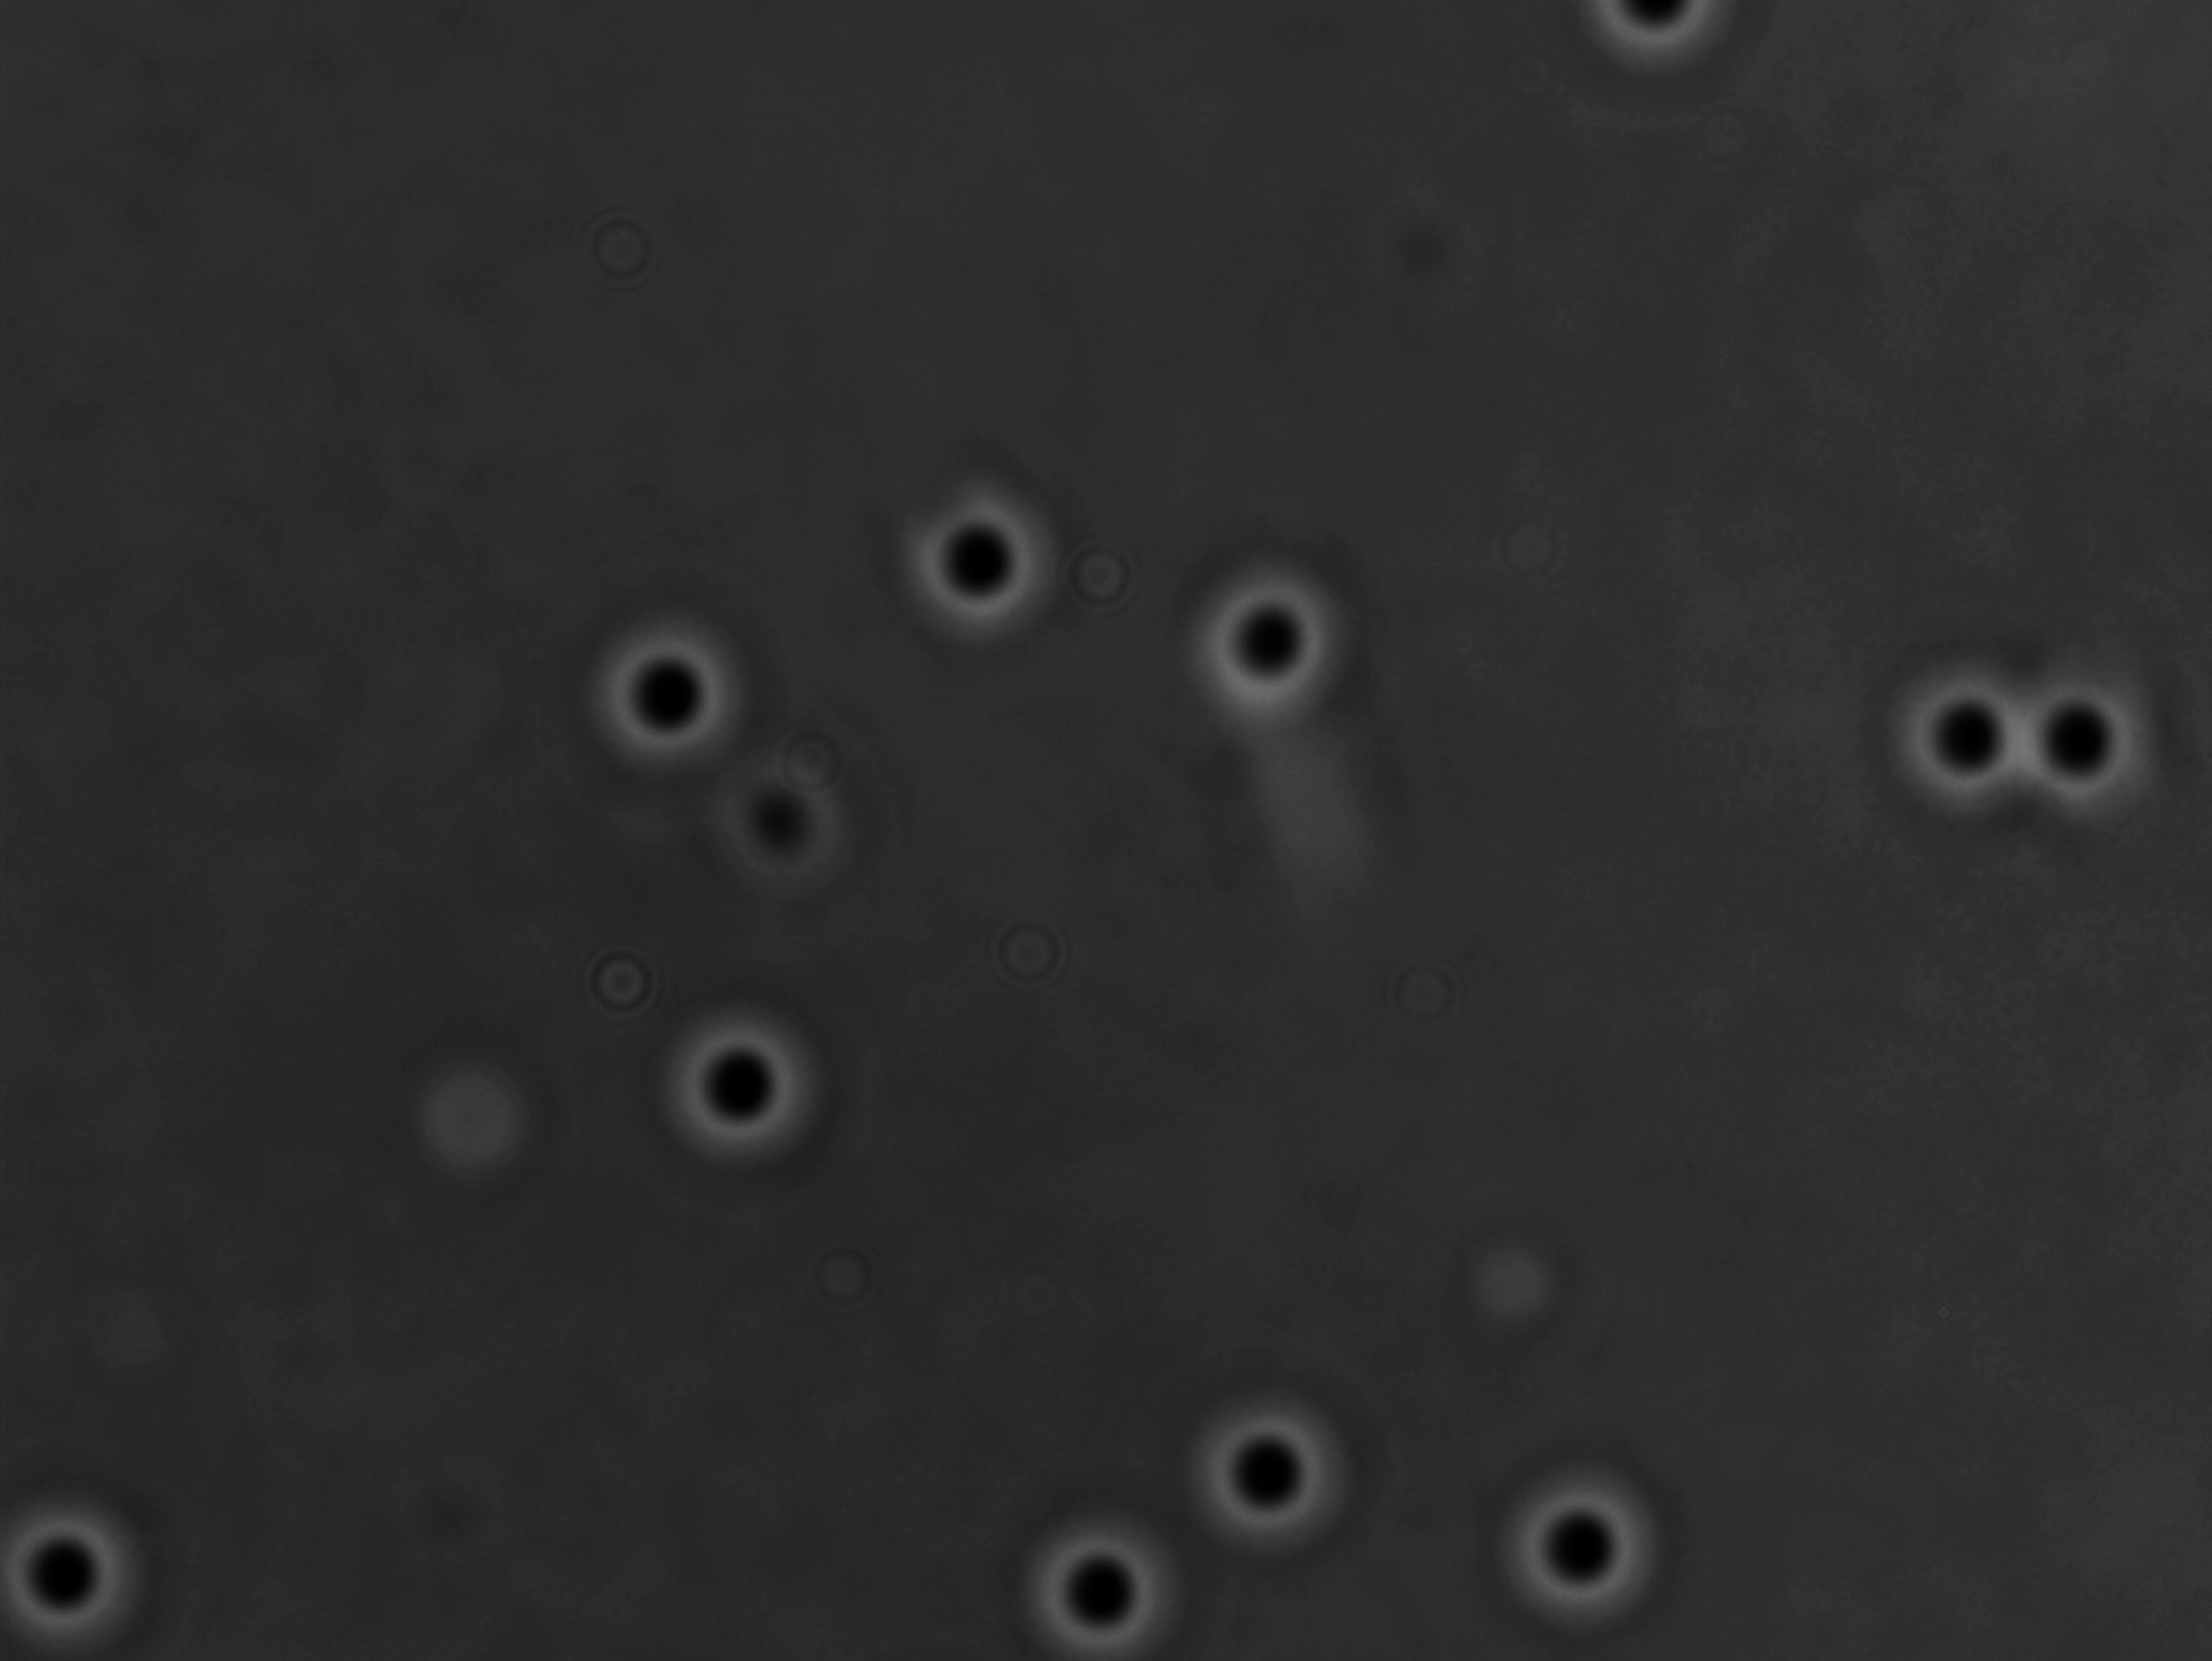depth:-80: (1874, 632, 2076, 865), (2010, 619, 2202, 827), (637, 995, 841, 1179), (1165, 550, 1354, 740), (1483, 1457, 1675, 1644), (886, 473, 1068, 654), (1186, 1392, 1375, 1563), (1014, 1499, 1209, 1661), (579, 611, 754, 785)
